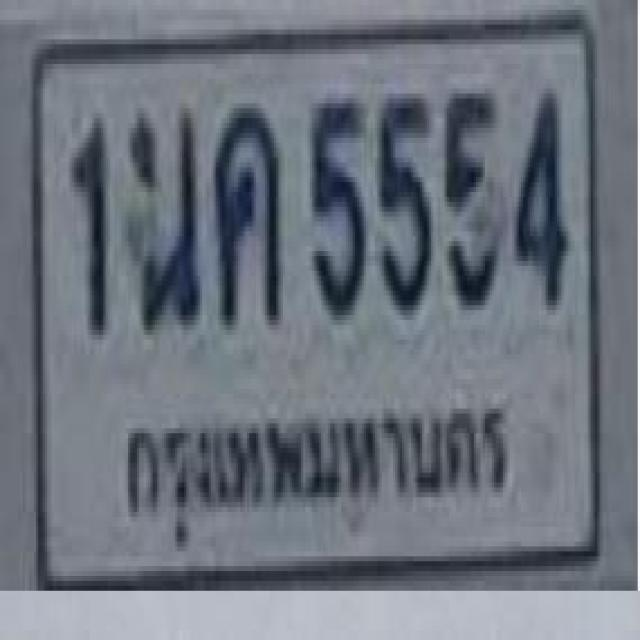license_plate: (26, 22, 609, 576)
